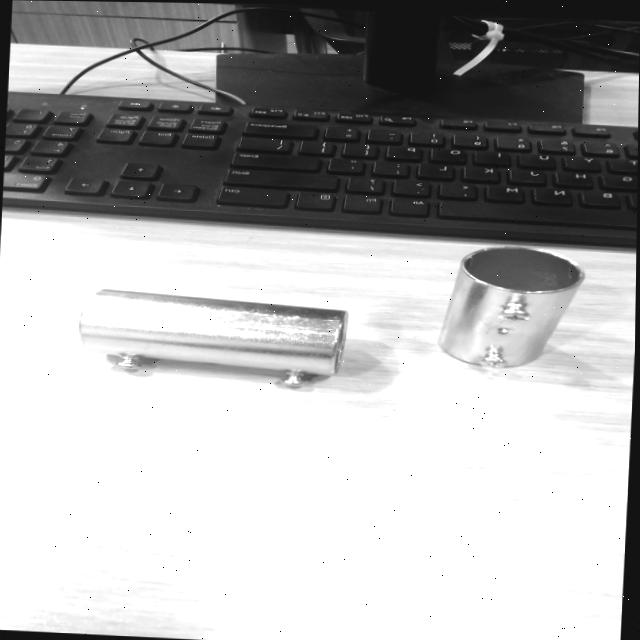Co_Lon: (74, 286, 346, 389)
Co_Nho: (433, 227, 587, 386)
